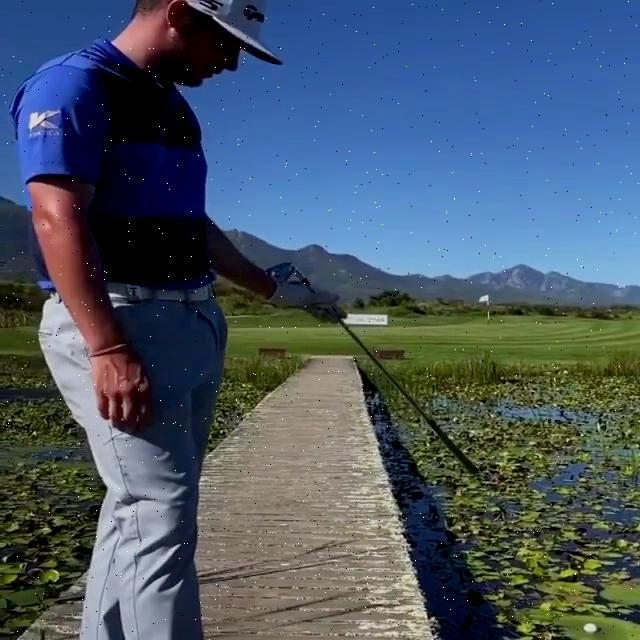ClubHandle: (266, 262, 479, 475)
ClubHead: (267, 261, 294, 286)
GolfBall: (584, 624, 597, 633)
